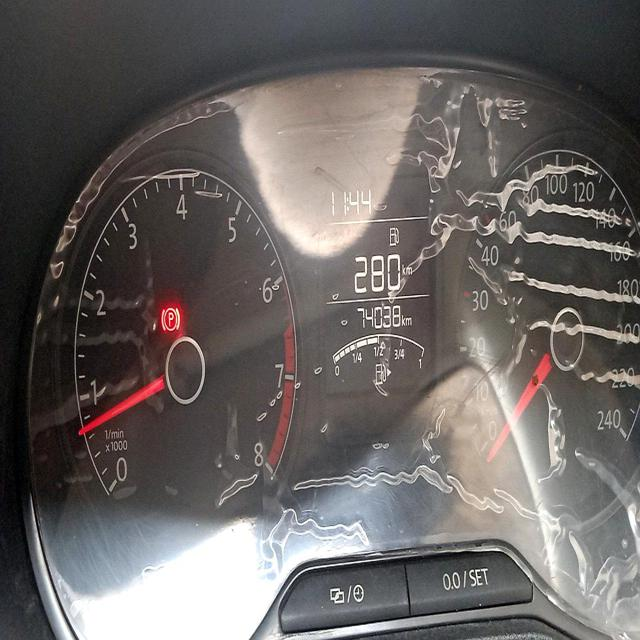odometer: (349, 302, 421, 335)
